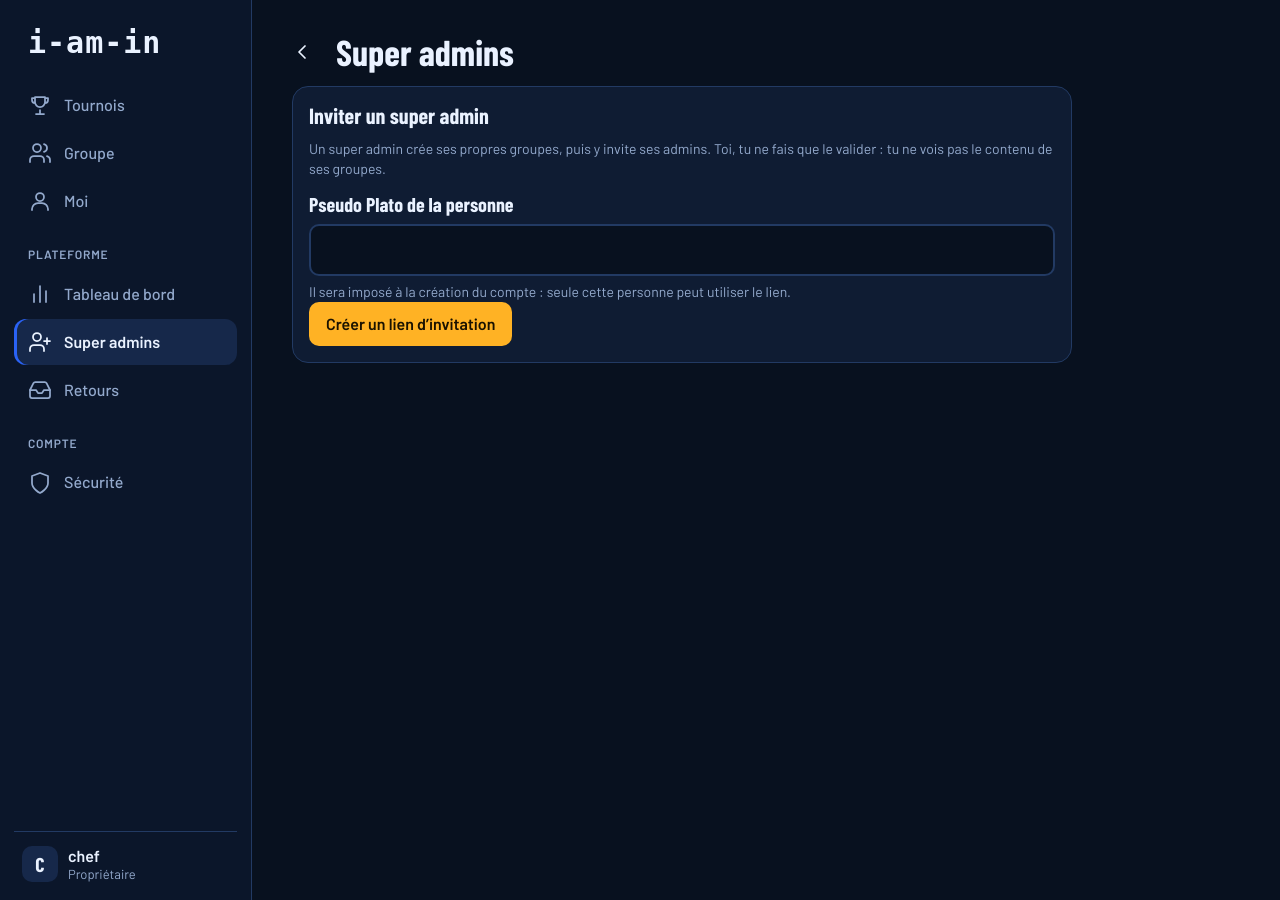
Test: le propriétaire valide les super admins › crée un lien, l’affiche une seule fois, puis ne montre que son existence
Type "Karim_77" into the field labelled "Pseudo Plato de la personne" at {"x": 682, "y": 250}, box [309,224,1055,276]
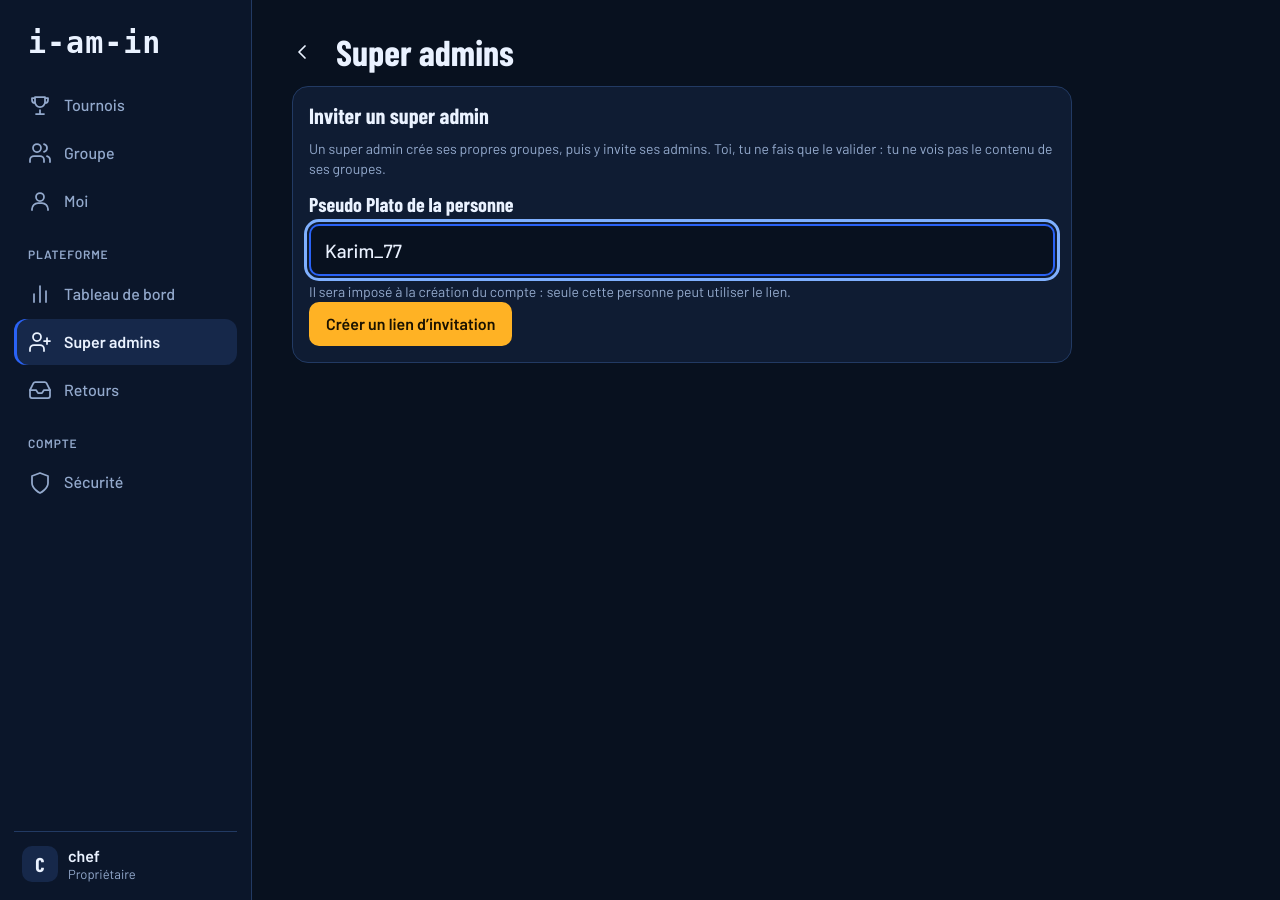
Click the button "Créer un lien d’invitation" at {"x": 411, "y": 324}, box [309,302,512,346]
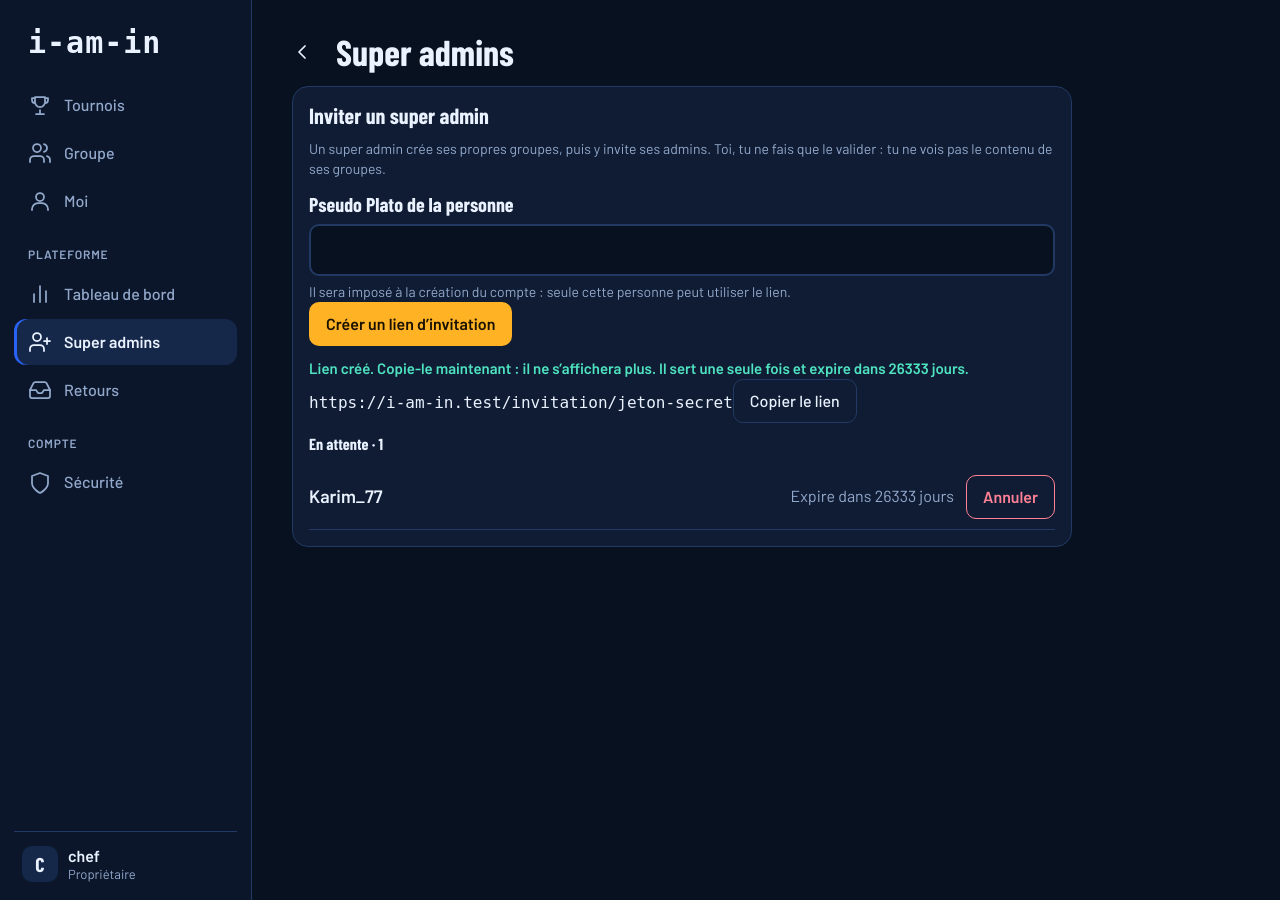
expect the text "https://i-am-in.test/invitation/jeton-secret" is shown: met, box [309,392,733,412]
expect the heading "En attente · 1" is shown: met, box [309,434,383,453]
expect the text "Karim_77" is shown: met, box [309,485,383,507]
